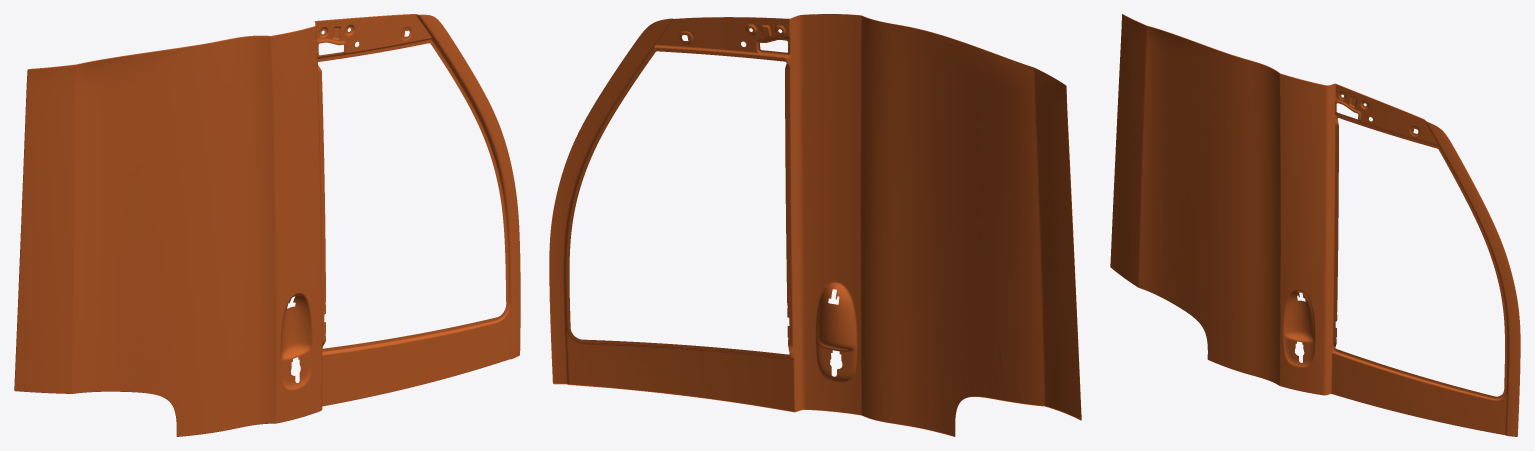
The model's file is car_VITO_model.obj.
The picture shows the model from 3 angles, left to right: view 1: azimuth 30°, elevation 25°; view 2: azimuth 150°, elevation 25°; view 3: azimuth 330°, elevation 25°; orthographic projection. The views are drawn at different scales.
Parts seen in each view (by area): view 1: A1_1P.001; view 2: A1_1P.001; view 3: A1_1P.001.
Boxes of the visible parts, box(x1,y1,x2,y2) form: A1_1P.001: box(14, 14, 520, 436); A1_1P.001: box(549, 14, 1081, 436); A1_1P.001: box(1110, 14, 1520, 436).
Size of the model in its own units: 1.45 by 1.11 by 0.1407.
